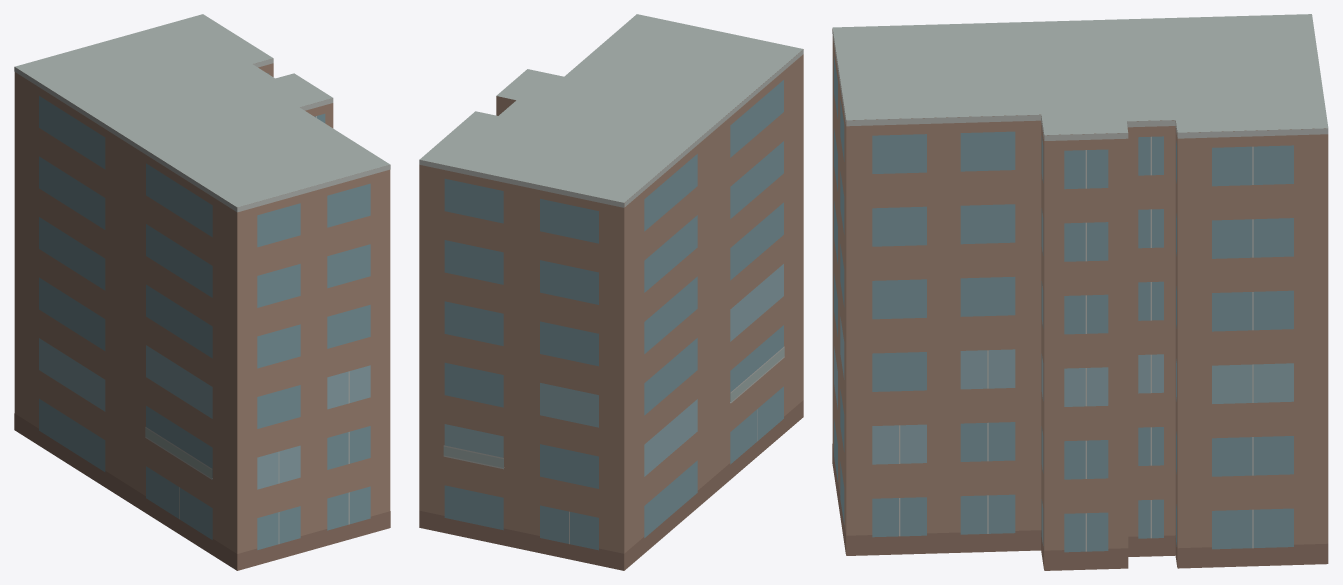
Rendered from survey-upis-32701606.glb.
The picture shows the model from 3 angles, left to right: view 1: azimuth 30°, elevation 25°; view 2: azimuth 150°, elevation 25°; view 3: azimuth 270°, elevation 25°; orthographic projection. The views are drawn at different scales.
Visible parts, largest first — view 1: survey-upis-32701606.tmp; view 2: survey-upis-32701606.tmp; view 3: survey-upis-32701606.tmp.
Boxes of the visible parts, box(x1,y1,x2,y2) form: survey-upis-32701606.tmp: box(14, 14, 390, 570); survey-upis-32701606.tmp: box(419, 14, 803, 570); survey-upis-32701606.tmp: box(832, 14, 1328, 570).
Bounding box in the file's own units: 10.69 × 17.9 × 18.48.
